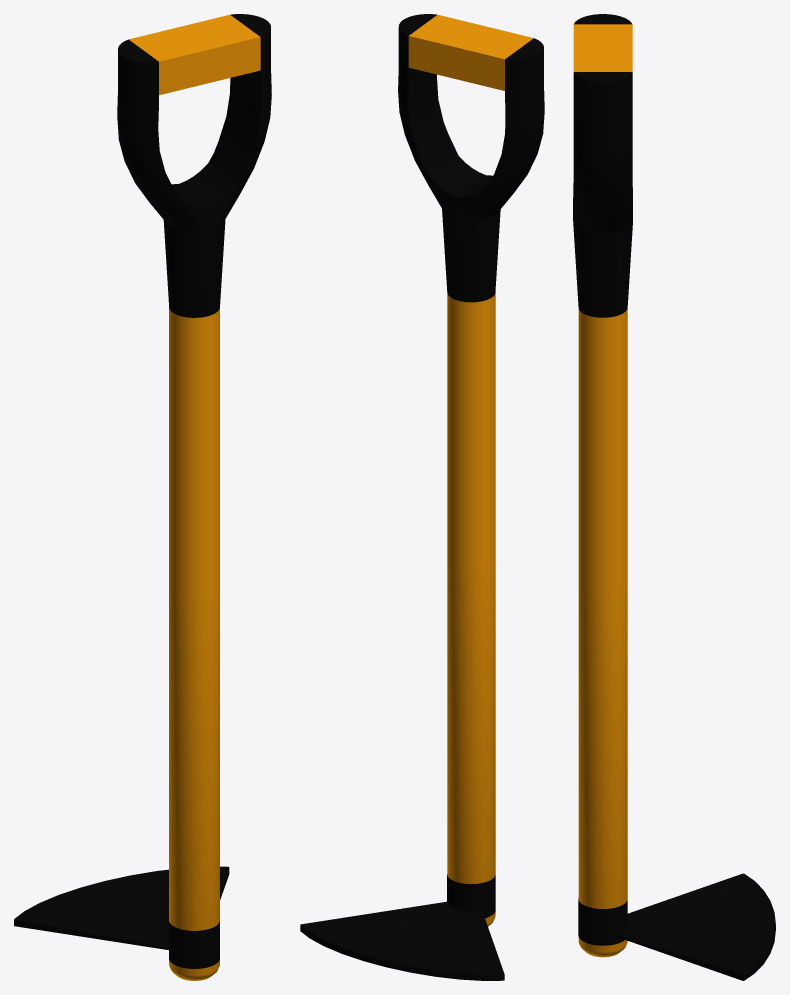
The model's file is hoe.obj.
3 renders of one model, left to right at view 1: azimuth 30°, elevation 25°; view 2: azimuth 150°, elevation 25°; view 3: azimuth 270°, elevation 25°, orthographic. The views are drawn at different scales.
Visible parts, largest first — view 1: hoe; view 2: hoe; view 3: hoe.
Part boxes in pixels (box(x1,y1,x2,y2)): hoe: box(14, 14, 271, 980); hoe: box(300, 14, 544, 980); hoe: box(573, 14, 775, 980).
Bounding box in the file's own units: 0.2193 × 0.9112 × 0.1857.
